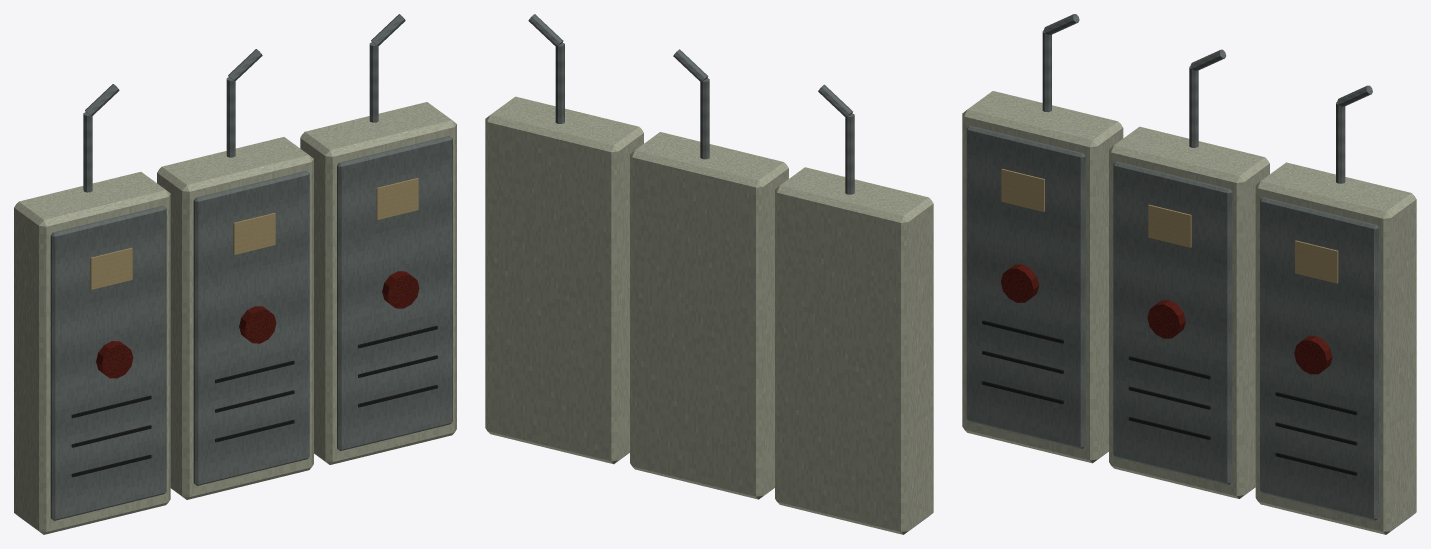
Rendered from level_electrical_bank.glb.
3 renders of one model, left to right at view 1: azimuth 30°, elevation 25°; view 2: azimuth 150°, elevation 25°; view 3: azimuth 330°, elevation 25°, orthographic. The views are drawn at different scales.
Parts seen in each view (by area): view 1: level_electrical_bank; view 2: level_electrical_bank; view 3: level_electrical_bank.
Boxes of the visible parts, <box> form: level_electrical_bank: <box>14,14,456,534</box>; level_electrical_bank: <box>485,14,933,534</box>; level_electrical_bank: <box>962,14,1416,534</box>.
Bounding box in the file's own units: 2.22 × 2.12 × 0.37.
5 materials, 5 textured.
